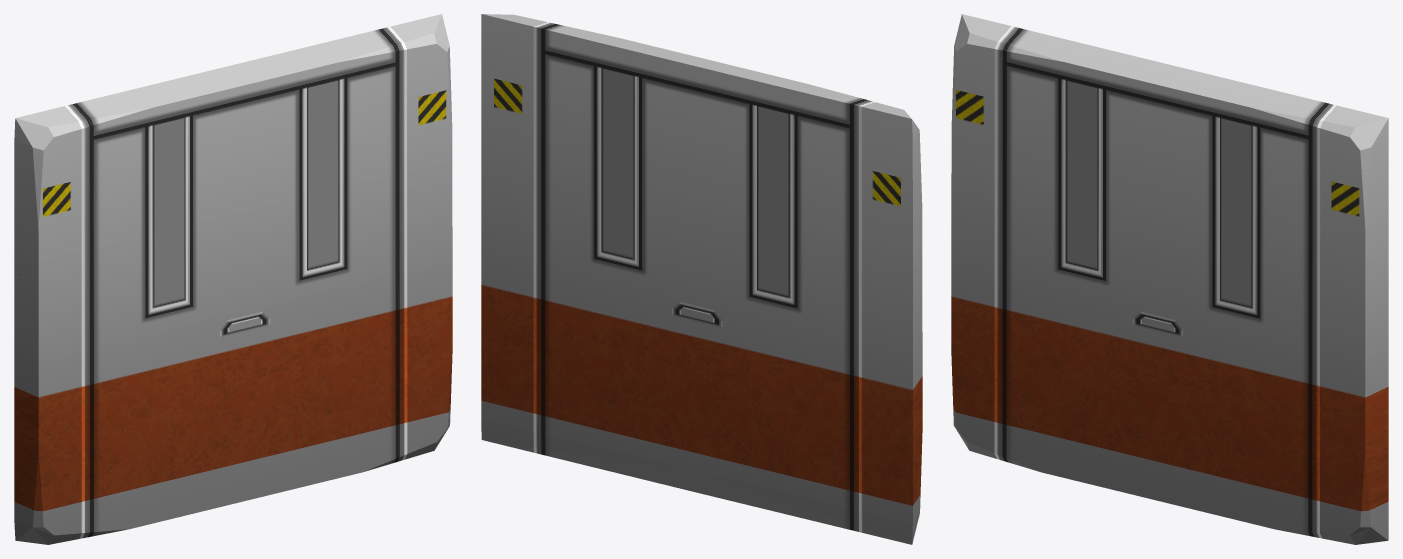
File: Wall Panel 3.fbx
3 views of the same model, side by side, from view 1: azimuth 30°, elevation 25°; view 2: azimuth 150°, elevation 25°; view 3: azimuth 330°, elevation 25° (orthographic).
Visible parts, largest first — view 1: Wall_Panel_polySurface5; view 2: Wall_Panel_polySurface5; view 3: Wall_Panel_polySurface5.
Boxes of the visible parts, x1,y1,x2,y2 form: Wall_Panel_polySurface5: (14, 14, 452, 544); Wall_Panel_polySurface5: (481, 14, 922, 544); Wall_Panel_polySurface5: (951, 14, 1388, 544).
Size of the model in its own units: 401 by 378 by 27.56.
1 material, 1 textured.
